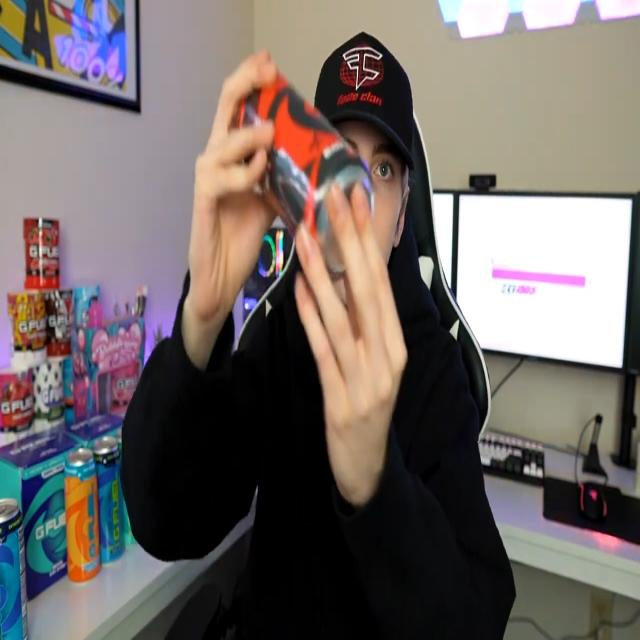can: (230, 61, 376, 276)
